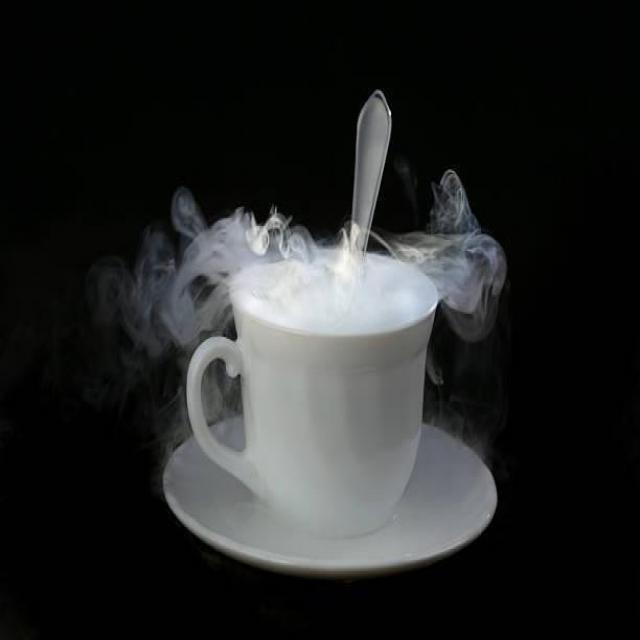cup-handle: (185, 237, 440, 539)
